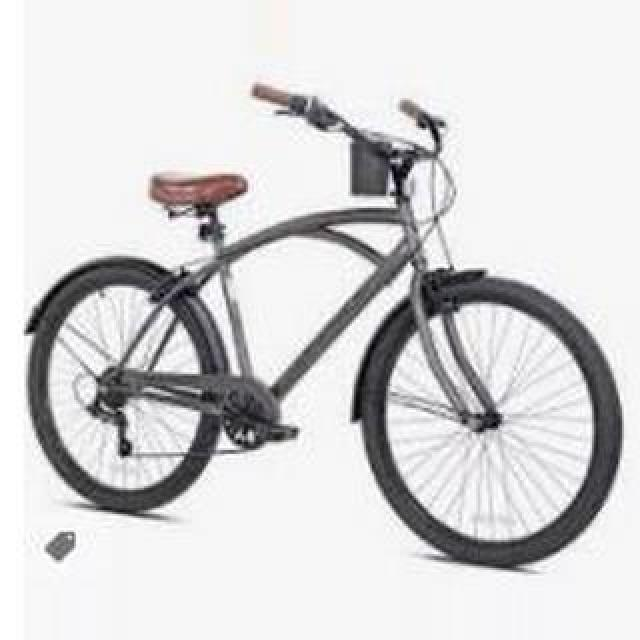Person: (27, 81, 625, 571)
